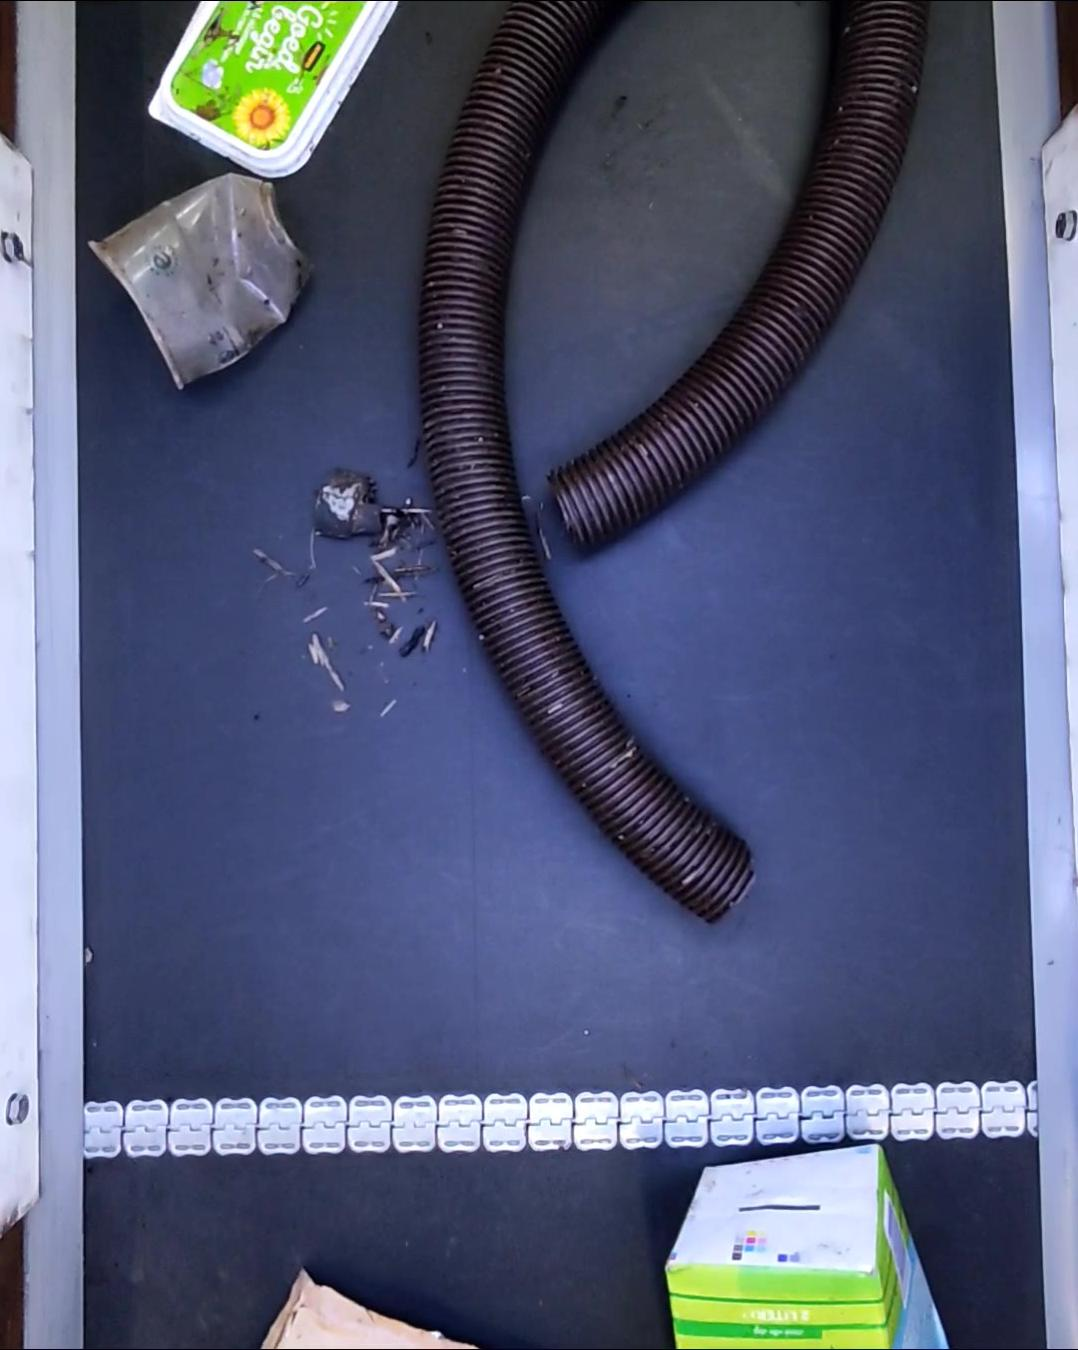Voedselverpakkingen: (143, 0, 402, 178)
